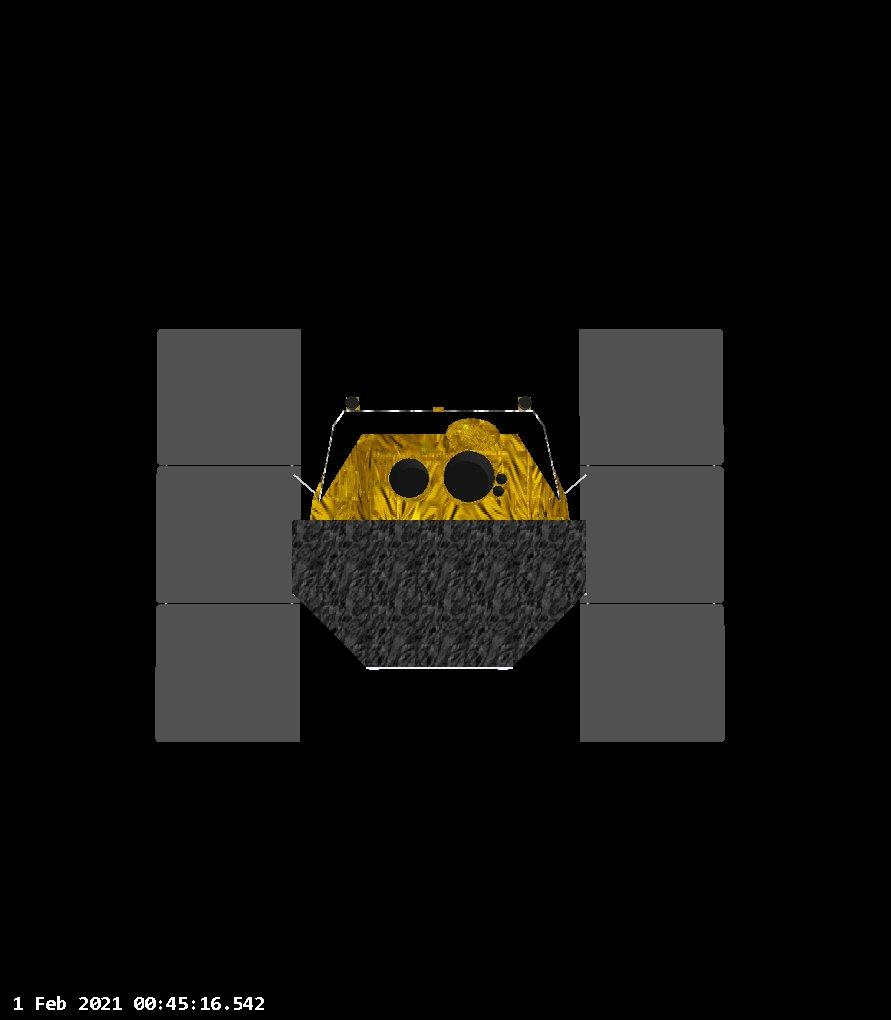body: (287, 428, 586, 675)
solar: (152, 324, 307, 751), (575, 324, 730, 751)
